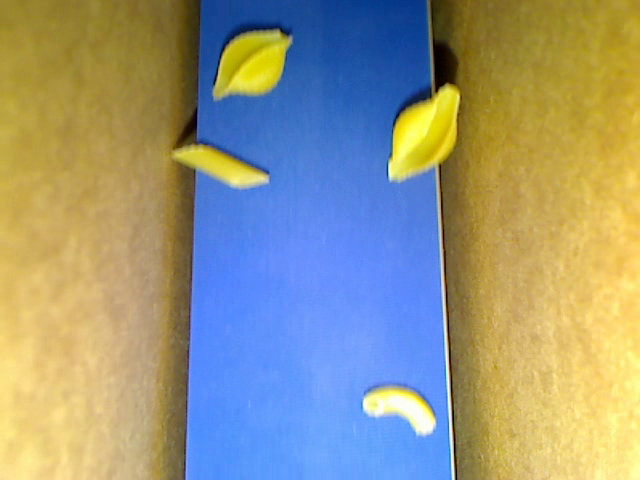elbow: (362, 384, 436, 437)
penne: (170, 143, 271, 188)
shell: (386, 83, 460, 183), (209, 28, 292, 103)
